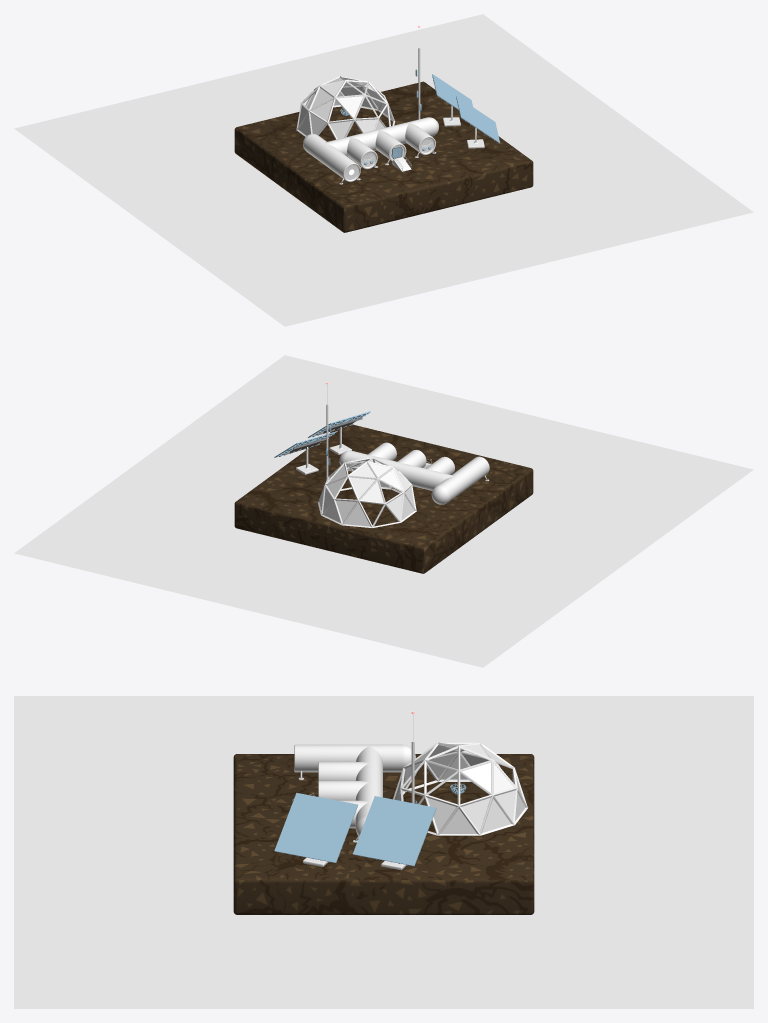
File: SpaceCamp.gltf
3 renders of one model, top to bottom at view 1: azimuth 30°, elevation 25°; view 2: azimuth 150°, elevation 25°; view 3: azimuth 270°, elevation 25°, orthographic. The views are drawn at different scales.
Visible parts, largest first — view 1: Plane.004, Icosphere.035, SolarPanel1, SolarPanel2; view 2: Plane.004, Icosphere.035; view 3: Plane.004, Icosphere.035, SolarPanel2, SolarPanel1.
Part boxes in pixels (x1,y1,x2,y2): Plane.004: (14, 14, 753, 326); Icosphere.035: (296, 76, 395, 139); SolarPanel1: (456, 96, 499, 143); SolarPanel2: (432, 74, 472, 109); Plane.004: (14, 355, 753, 667); Icosphere.035: (317, 457, 416, 527); Plane.004: (14, 696, 753, 1008); Icosphere.035: (393, 742, 527, 835); SolarPanel2: (353, 796, 436, 866); SolarPanel1: (274, 792, 357, 862).
Bounding box in the file's own units: 3.7 × 0.9458 × 3.7.
8 materials, 1 textured.
